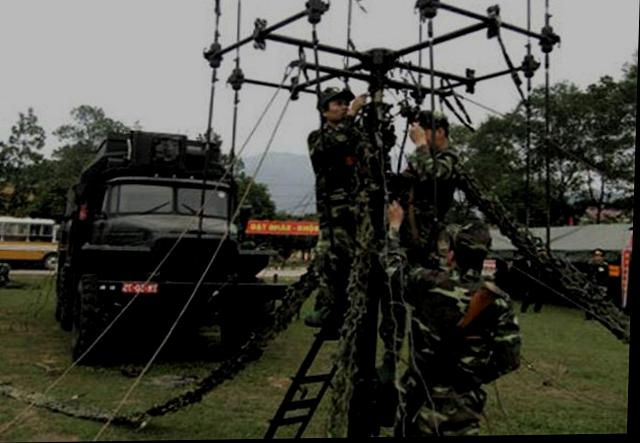License_Plate: (118, 282, 159, 297)
